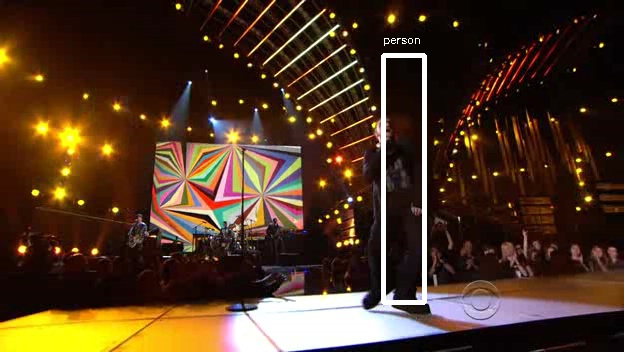person: (362, 116, 430, 230), (359, 116, 427, 230), (365, 116, 433, 230), (362, 113, 430, 227), (362, 119, 430, 233)
target_negative: (330, 117, 622, 337), (206, 235, 452, 292), (537, 68, 581, 143), (448, 10, 523, 25), (258, 335, 434, 341), (112, 277, 485, 278)
